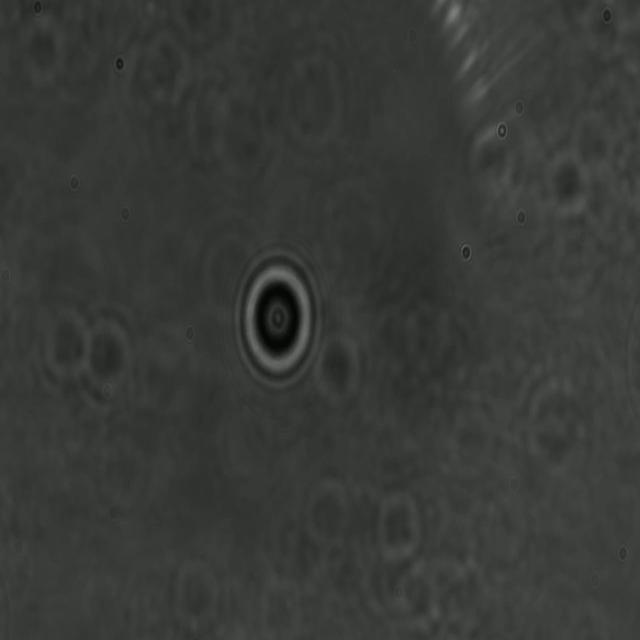LCELL: (234, 244, 322, 395)
